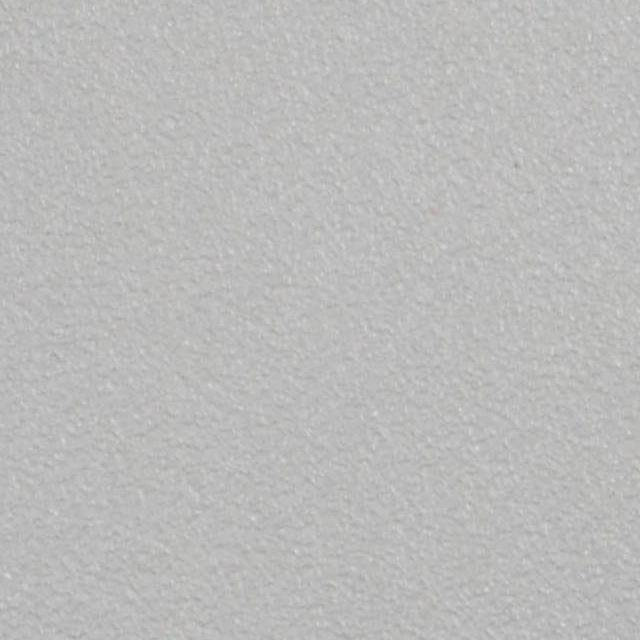Tomato leaf late blight: (0, 0, 156, 634)
